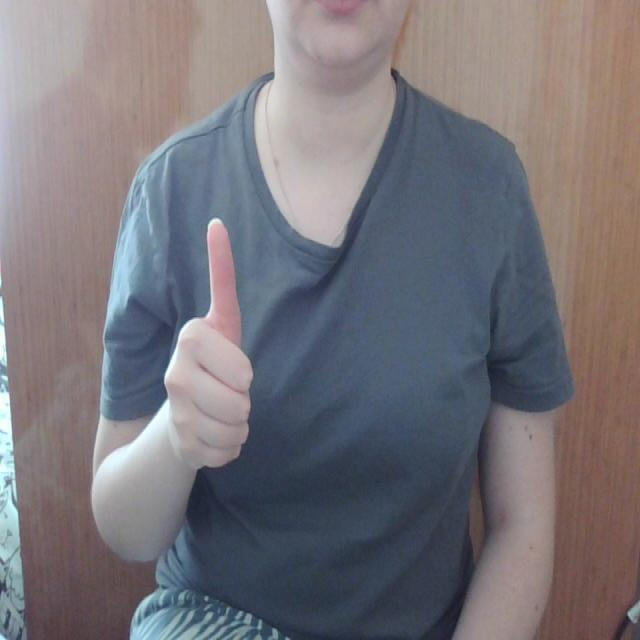Tamam: (159, 215, 260, 472)
